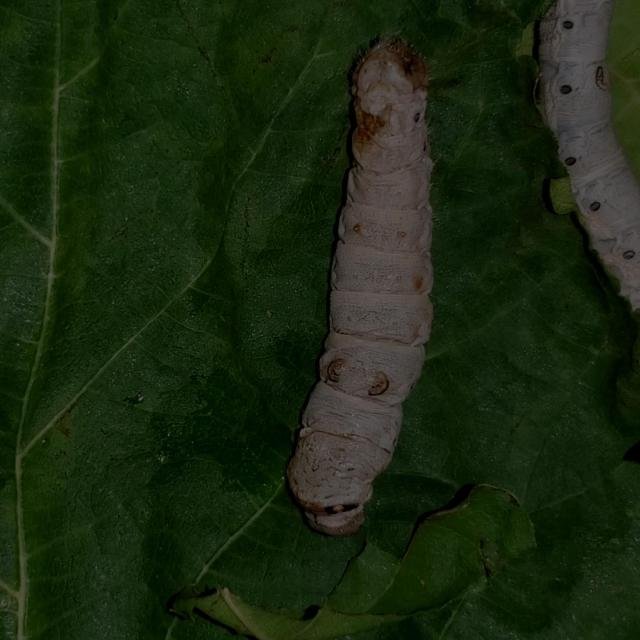Grasserie: (280, 24, 458, 546)
